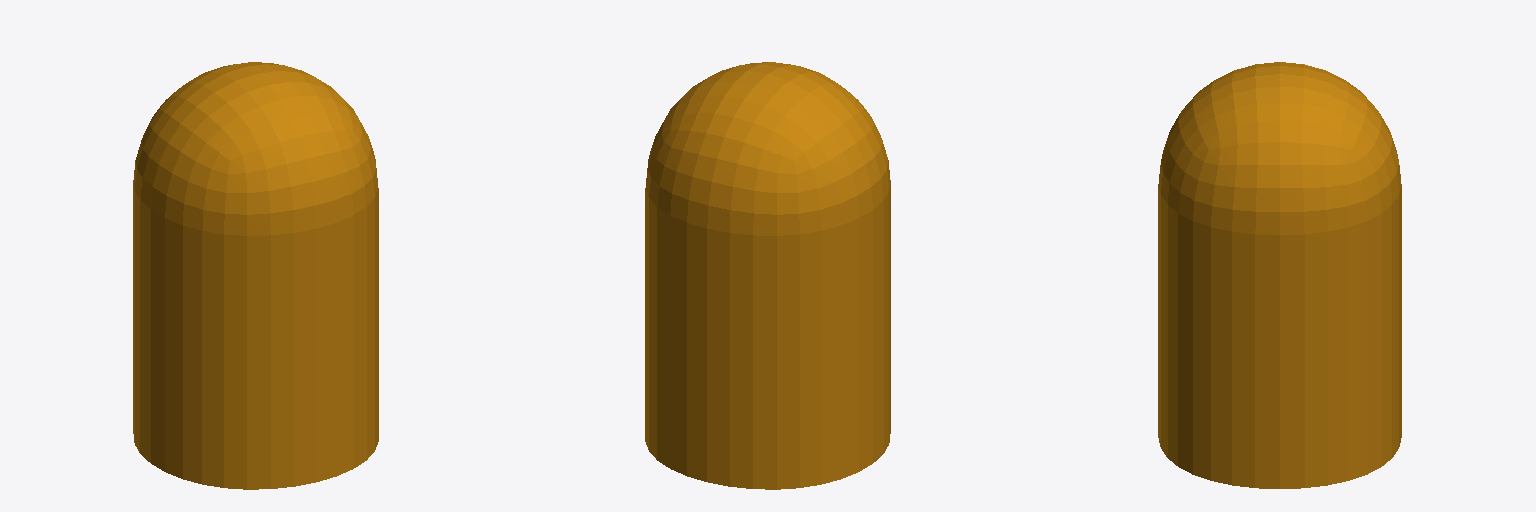
Rendered from Bullet.obj.
3 views of the same model, side by side, from view 1: azimuth 30°, elevation 25°; view 2: azimuth 150°, elevation 25°; view 3: azimuth 270°, elevation 25° (orthographic).
Visible parts, largest first — view 1: Cube_Cube.001; view 2: Cube_Cube.001; view 3: Cube_Cube.001.
Part boxes in pixels (bbox=[...]): Cube_Cube.001: bbox=[133, 62, 378, 489]; Cube_Cube.001: bbox=[645, 62, 890, 489]; Cube_Cube.001: bbox=[1158, 62, 1401, 488].
Size of the model in its own units: 1.7 by 2.8 by 1.7.